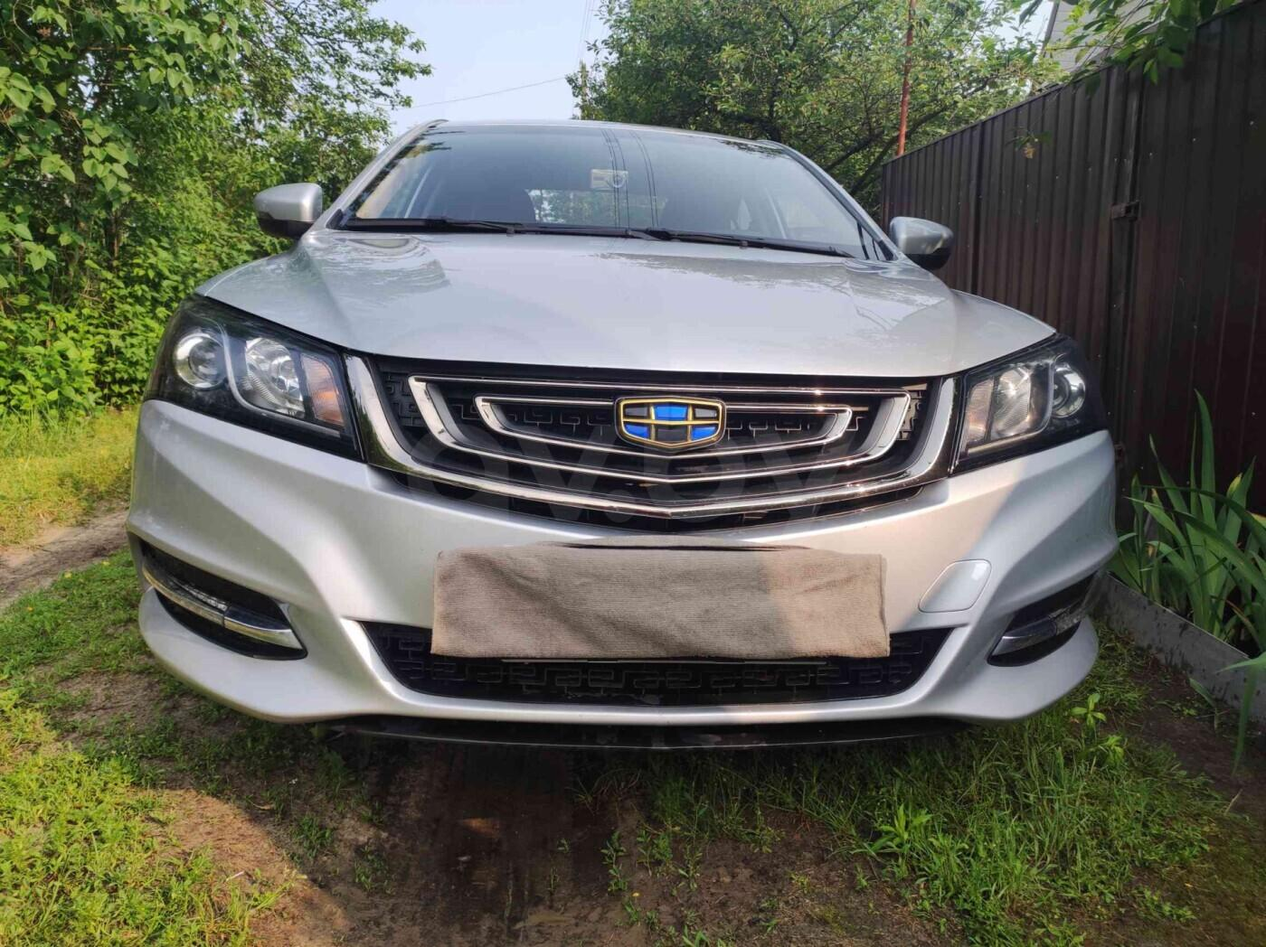Emgrand_2019-2021: (127, 120, 1115, 741)
